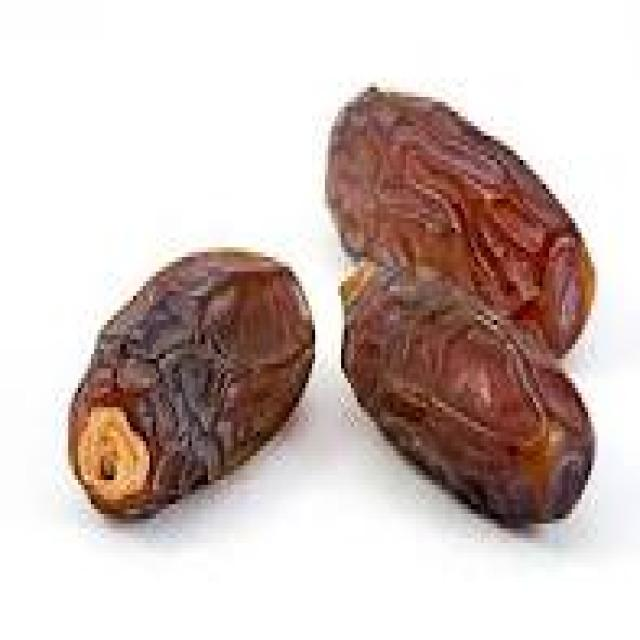dates: (52, 68, 611, 587)
